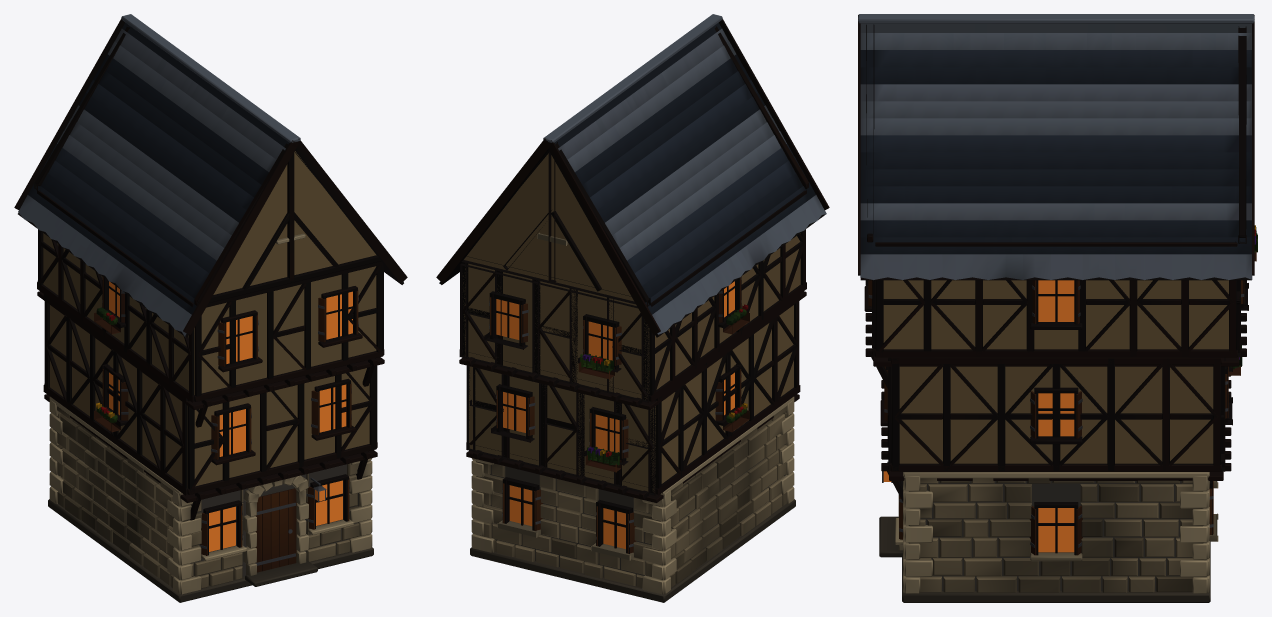
Rendered from Casa4B.fbx.
3 renders of one model, left to right at view 1: azimuth 30°, elevation 25°; view 2: azimuth 150°, elevation 25°; view 3: azimuth 270°, elevation 25°, orthographic. The views are drawn at different scales.
Parts seen in each view (by area): view 1: Casa4B; view 2: Casa4B; view 3: Casa4B.
Part boxes in pixels (left/top/right/bottom): Casa4B: left=14, top=14, right=407, bottom=602; Casa4B: left=436, top=14, right=829, bottom=602; Casa4B: left=858, top=14, right=1257, bottom=602.
Size of the model in its own units: 6.7 by 13.01 by 8.87.
